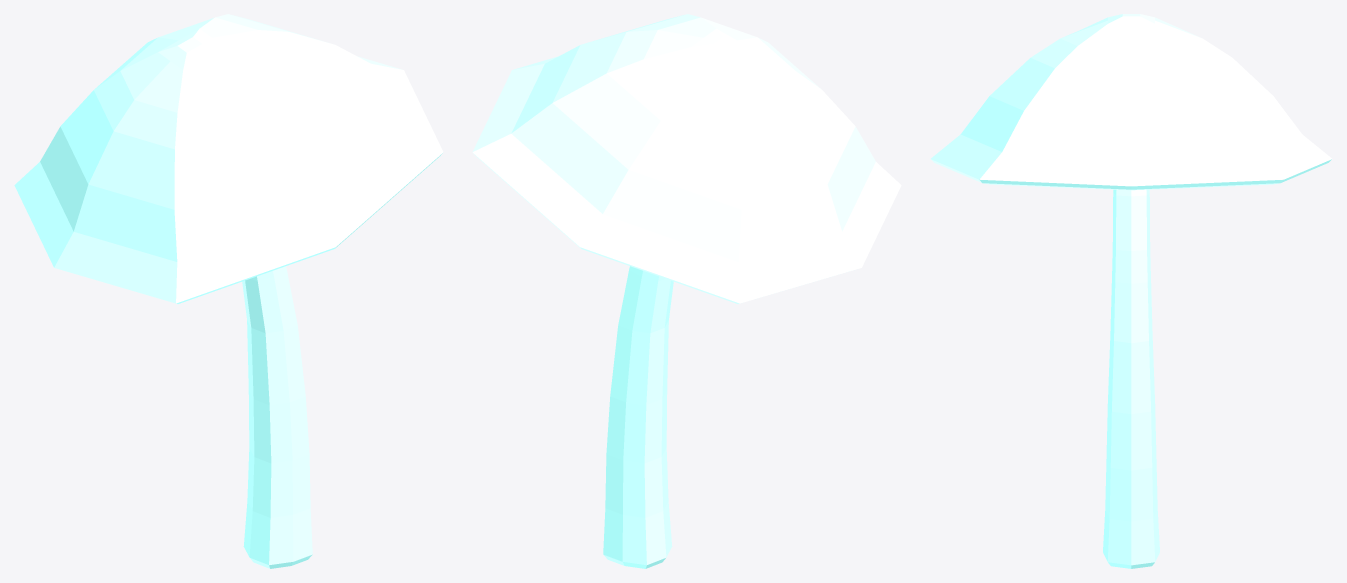
File: MushroomLightG.fbx
The picture shows the model from 3 angles, left to right: view 1: azimuth 30°, elevation 25°; view 2: azimuth 150°, elevation 25°; view 3: azimuth 270°, elevation 25°; orthographic projection. The views are drawn at different scales.
Parts seen in each view (by area): view 1: MushroomLightG; view 2: MushroomLightG; view 3: MushroomLightG.
Part boxes in pixels (bbox=[...]): MushroomLightG: bbox=[14, 14, 443, 568]; MushroomLightG: bbox=[472, 14, 901, 568]; MushroomLightG: bbox=[931, 14, 1331, 568].
Size of the model in its own units: 635 by 936 by 672.
